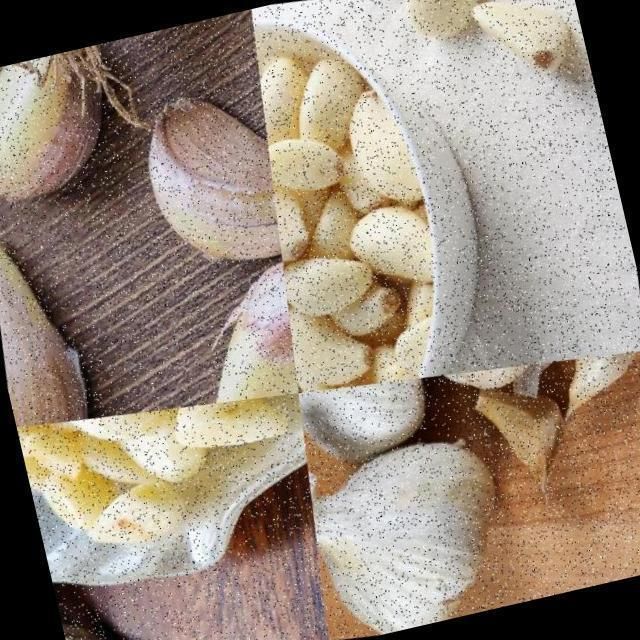garlic: (223, 28, 488, 408), (17, 364, 324, 588), (287, 416, 533, 640), (0, 182, 158, 439), (124, 78, 296, 274), (0, 35, 167, 226), (160, 244, 310, 416), (289, 364, 446, 485), (461, 370, 583, 512), (459, 0, 583, 94), (558, 342, 640, 425), (394, 0, 490, 50)
